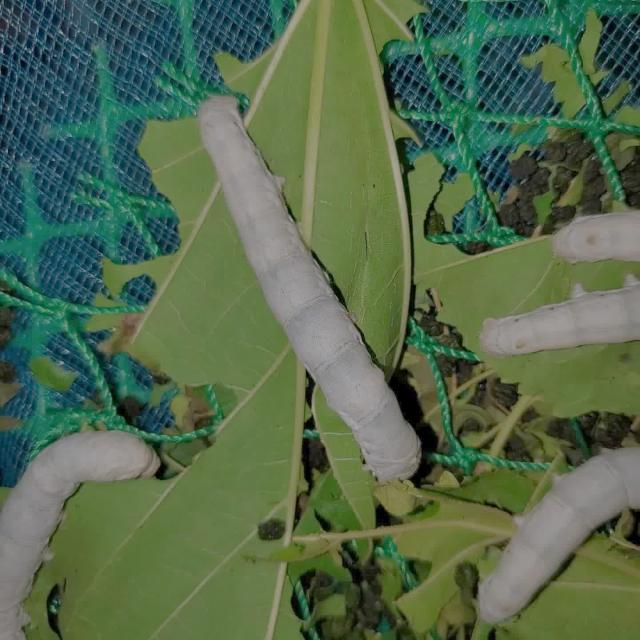Healthy: (171, 78, 469, 492), (0, 386, 203, 640)
